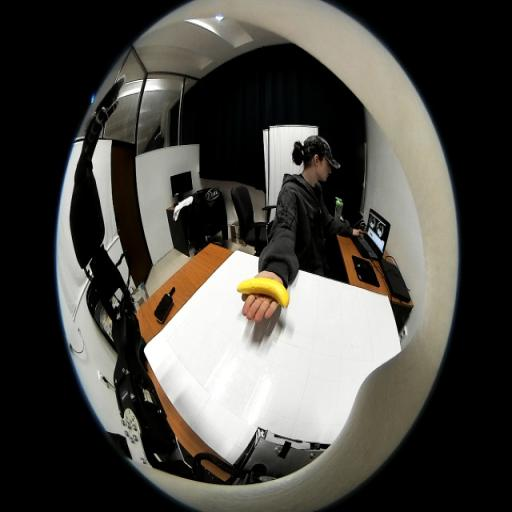Banana: (236, 277, 290, 307)
LeftHand: (82, 115, 102, 155)
